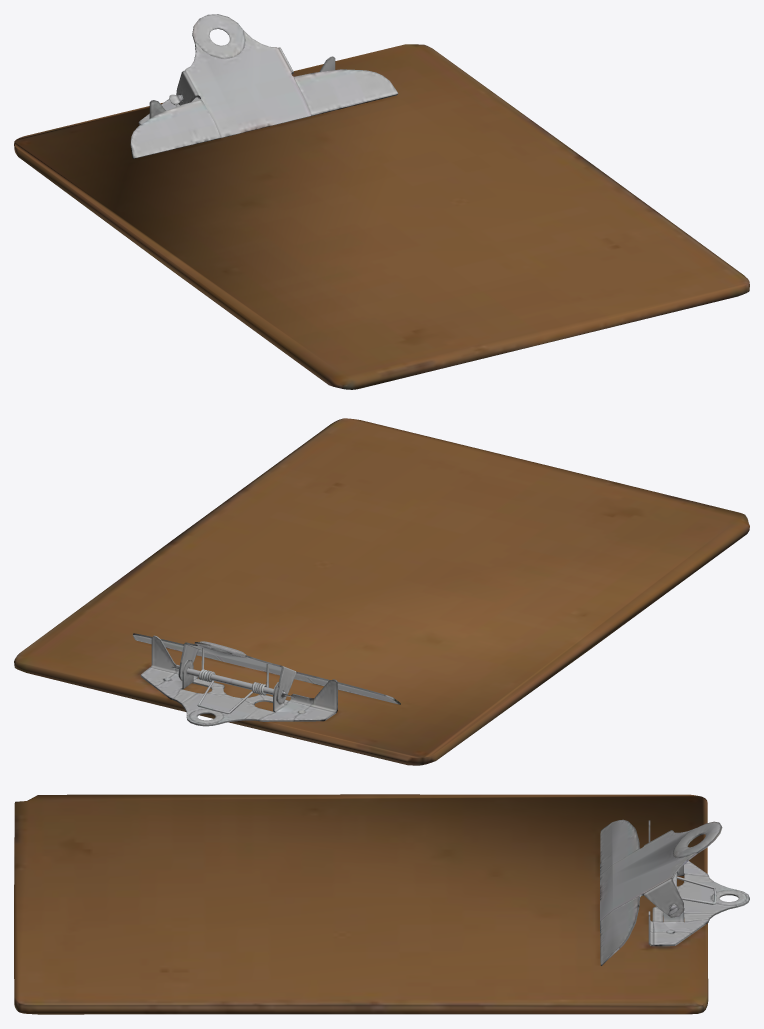
Rendered from clipboard.glb.
3 renders of one model, top to bottom at view 1: azimuth 30°, elevation 25°; view 2: azimuth 150°, elevation 25°; view 3: azimuth 270°, elevation 25°, orthographic. The views are drawn at different scales.
Parts seen in each view (by area): view 1: clipboard; view 2: clipboard; view 3: clipboard.
Part boxes in pixels (x1,y1,x2,y2): clipboard: [14, 14, 749, 389]; clipboard: [14, 418, 749, 765]; clipboard: [14, 794, 749, 1014].
Bounding box in the file's own units: 0.2283 × 0.042 × 0.3365.
Materials: 1 (1 with a texture image).
